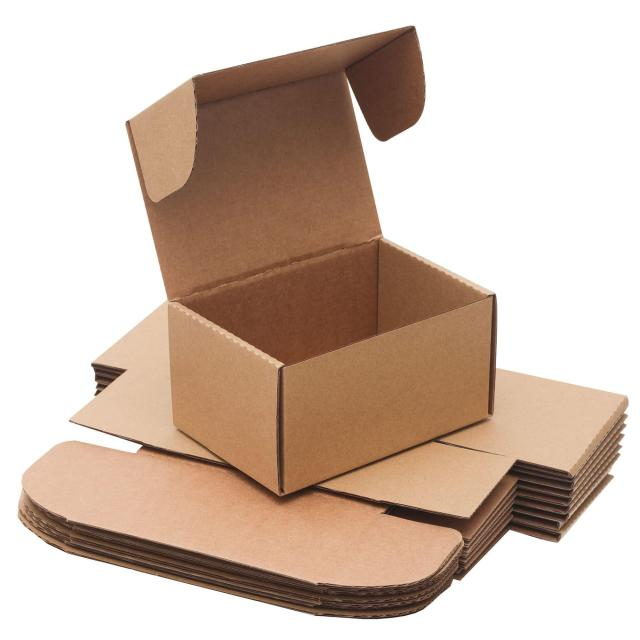Garbage: (127, 26, 496, 499)
